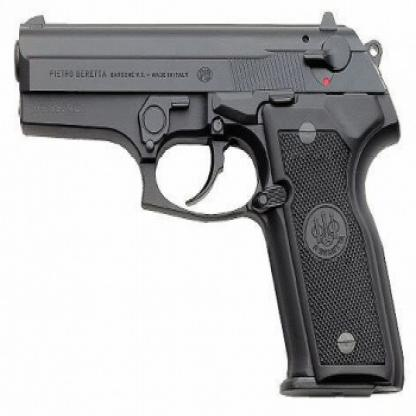Guns: (7, 8, 410, 401)
